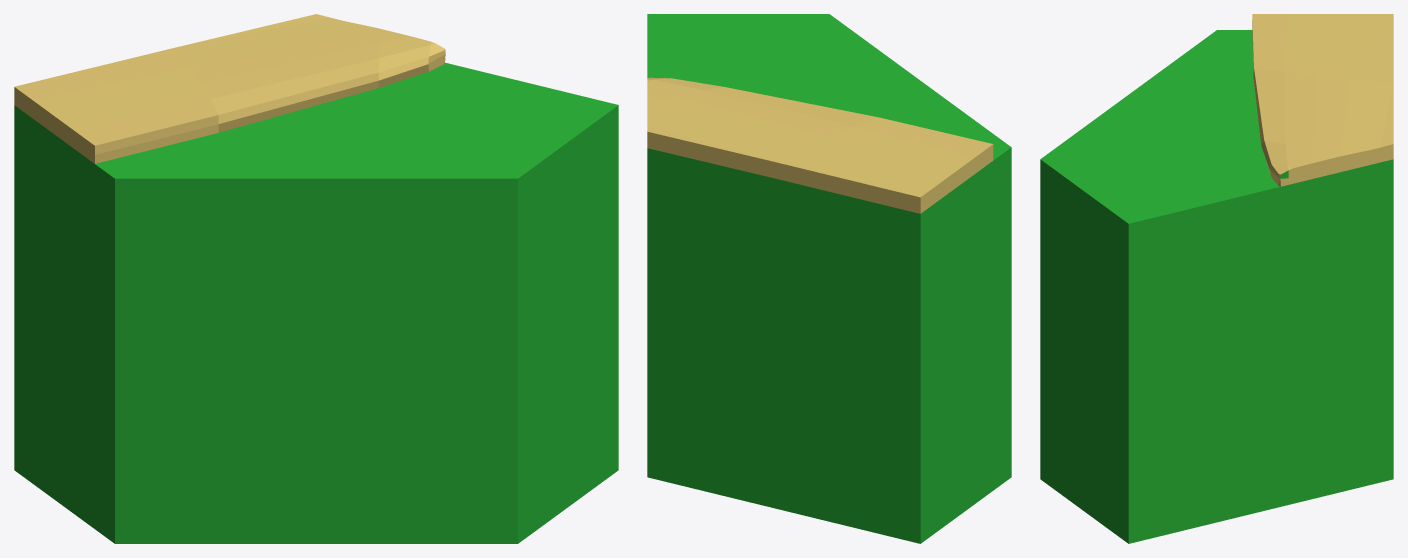
The model's file is module-corner_land_path_end_001.glb.
The picture shows the model from 3 angles, left to right: view 1: azimuth 30°, elevation 25°; view 2: azimuth 150°, elevation 25°; view 3: azimuth 270°, elevation 25°; orthographic projection. The views are drawn at different scales.
Parts seen in each view (by area): view 1: module-corner_land_path_end_001; view 2: module-corner_land_path_end_001; view 3: module-corner_land_path_end_001.
Boxes of the visible parts, bbox=[...] form: module-corner_land_path_end_001: bbox=[14, 14, 618, 543]; module-corner_land_path_end_001: bbox=[647, 14, 1011, 543]; module-corner_land_path_end_001: bbox=[1040, 14, 1393, 543].
Size of the model in its own units: 0.6495 by 0.525 by 0.5.
